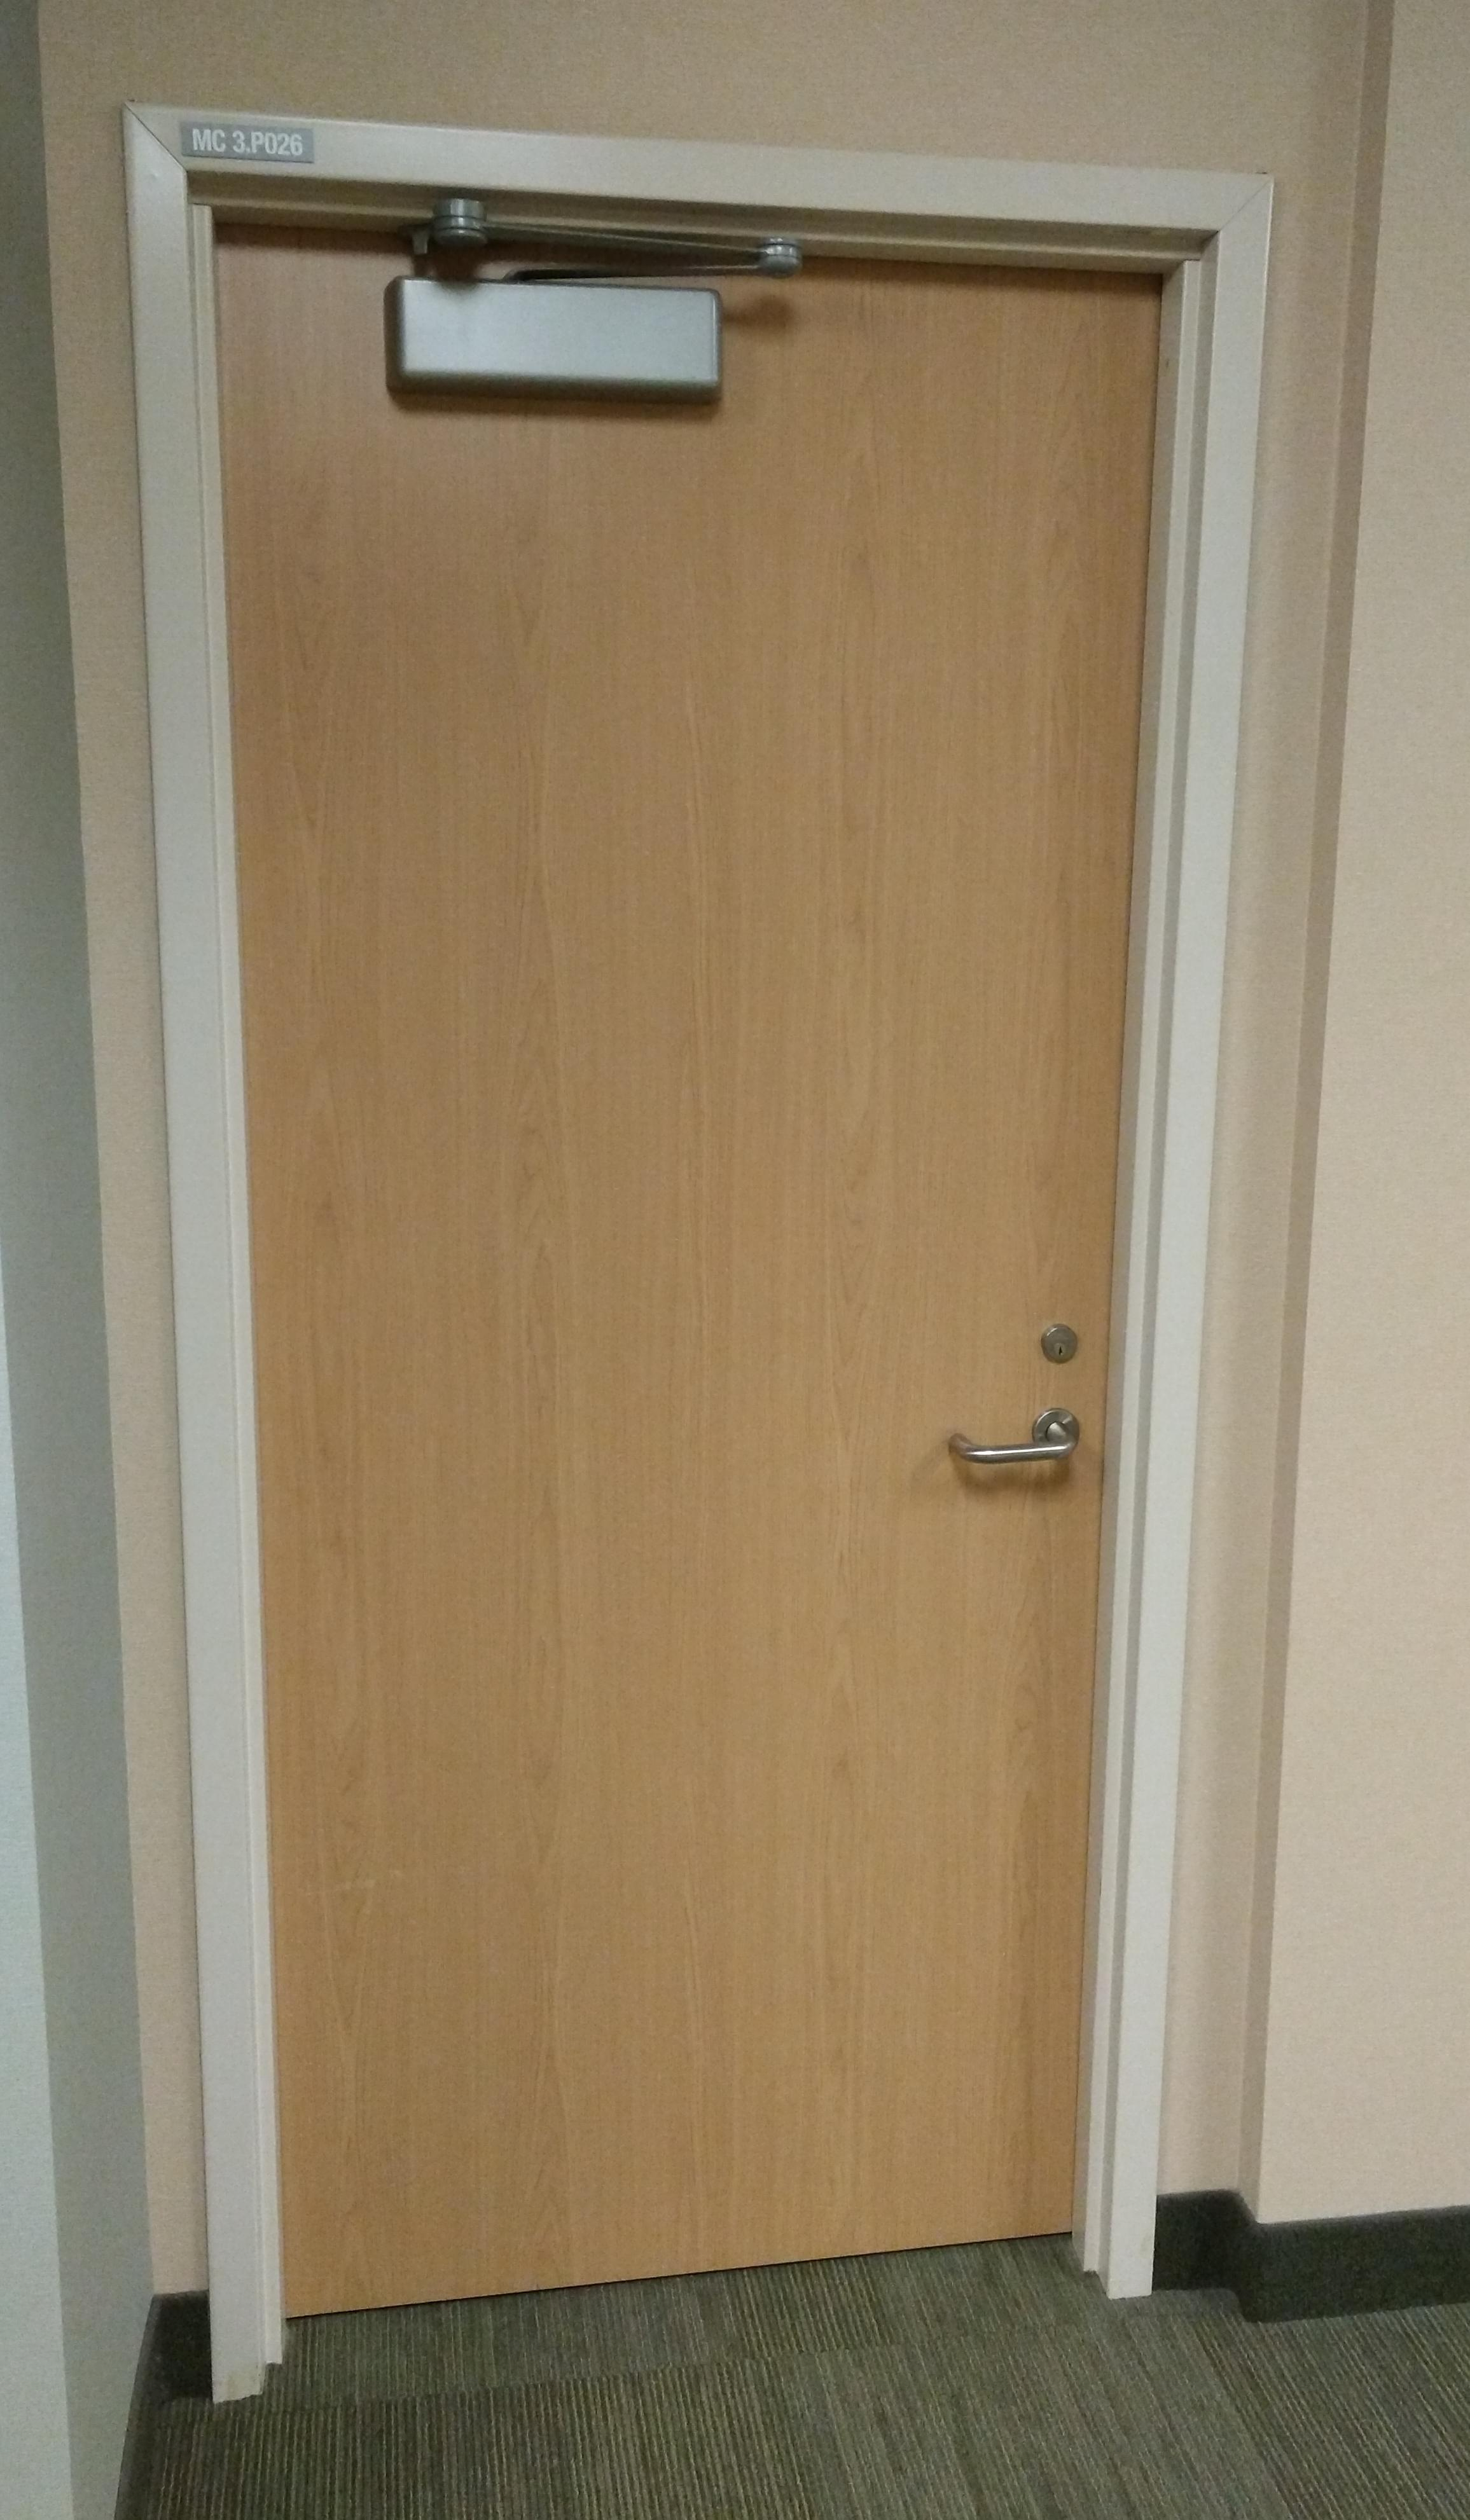door: (126, 107, 1274, 2406)
